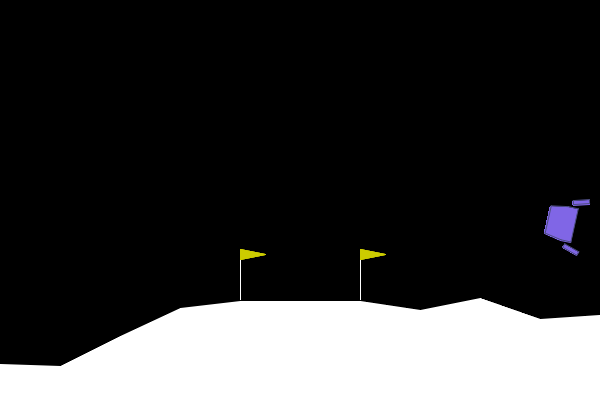lander: (539, 190, 591, 258)
